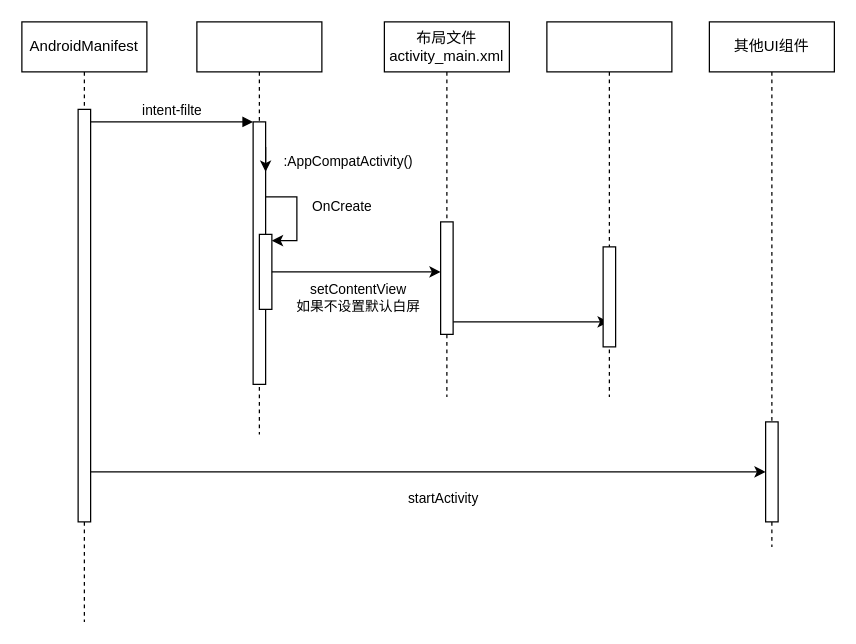
Some shapes in this 856 by 644 pixel diagram are drawn without their labels. The shapes that lost their labels are listed below. From the top down, each one's box as (x1, y1, x2, y2) in pixels, then its label:
(196, 21, 322, 434): UI组件 MainActivity
(546, 21, 672, 397): UI交互 CustomView
